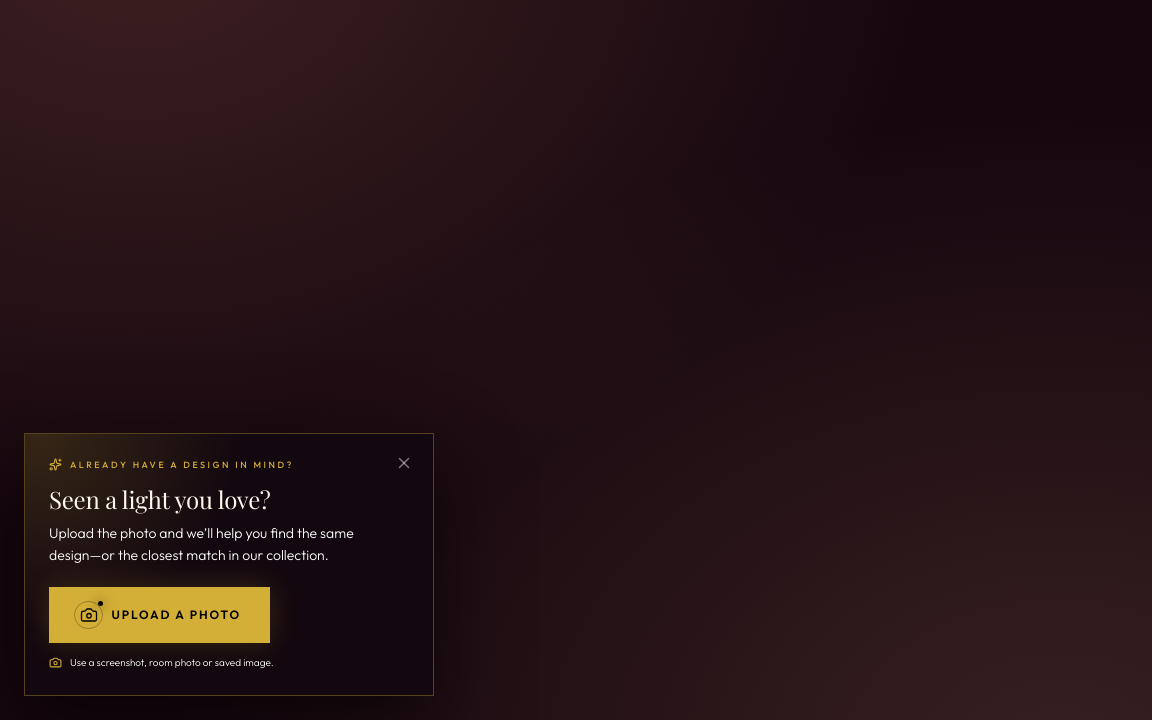
it: dismisses for the browsing session and stays out of admin
The width and height of the screenshot is (1152, 720).
(page scrolled)
Click the button named "Dismiss photo search suggestion" at (404, 463), box [387,446,421,480]
(page scrolled)
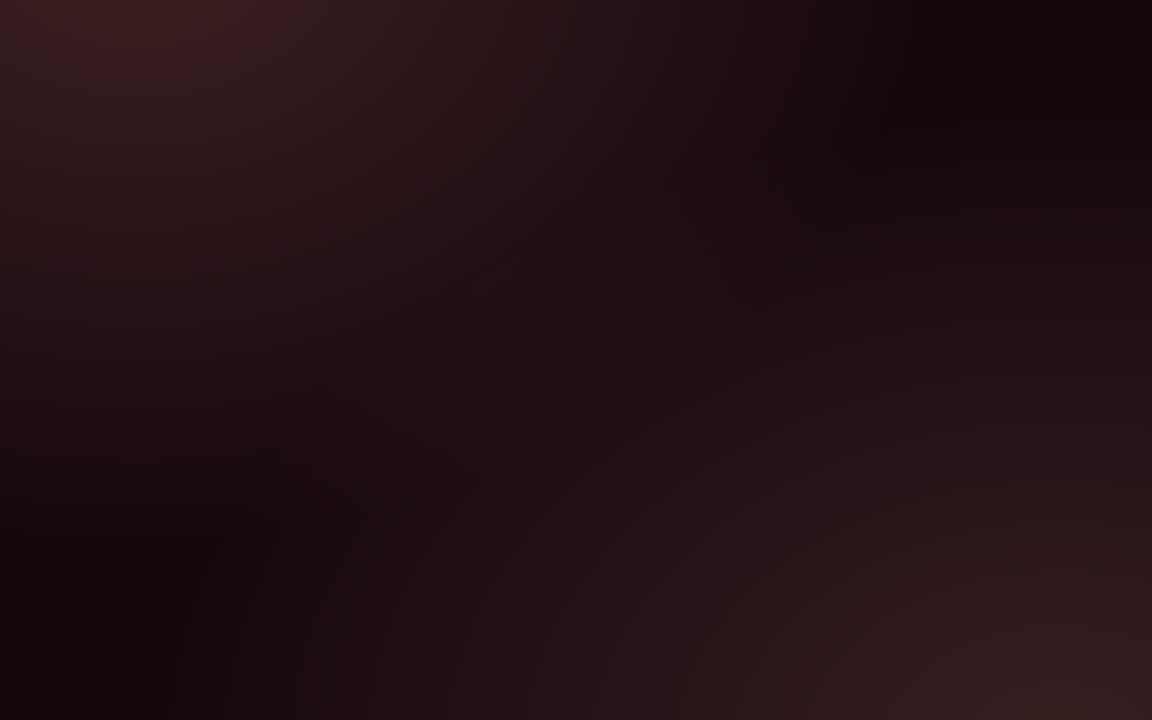
Now the dialog is gone
